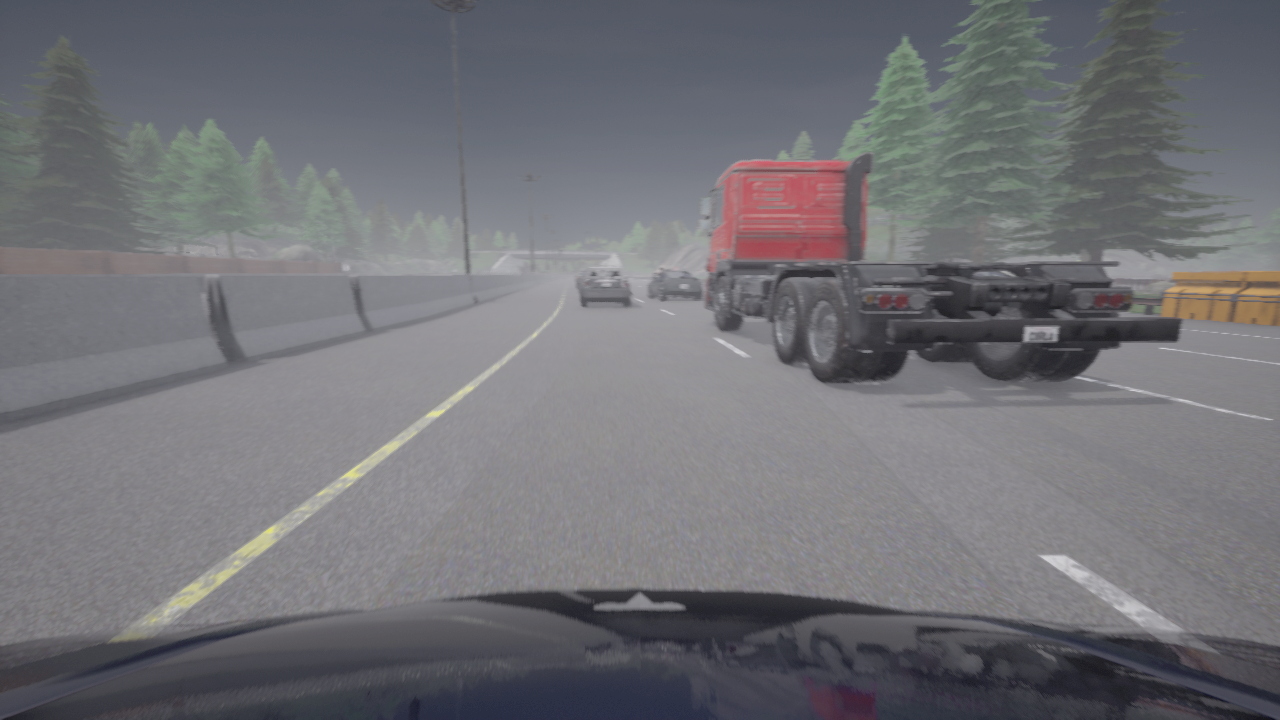cyclist: (0, 588, 1279, 719), (699, 153, 1182, 383), (578, 266, 631, 307), (648, 270, 703, 299), (575, 270, 587, 288), (974, 270, 1010, 276)
